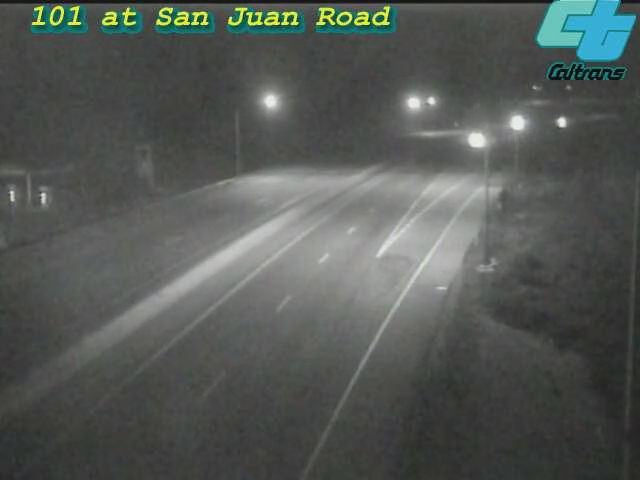vehicle: (538, 96, 588, 146), (489, 96, 539, 146), (451, 115, 501, 165)
